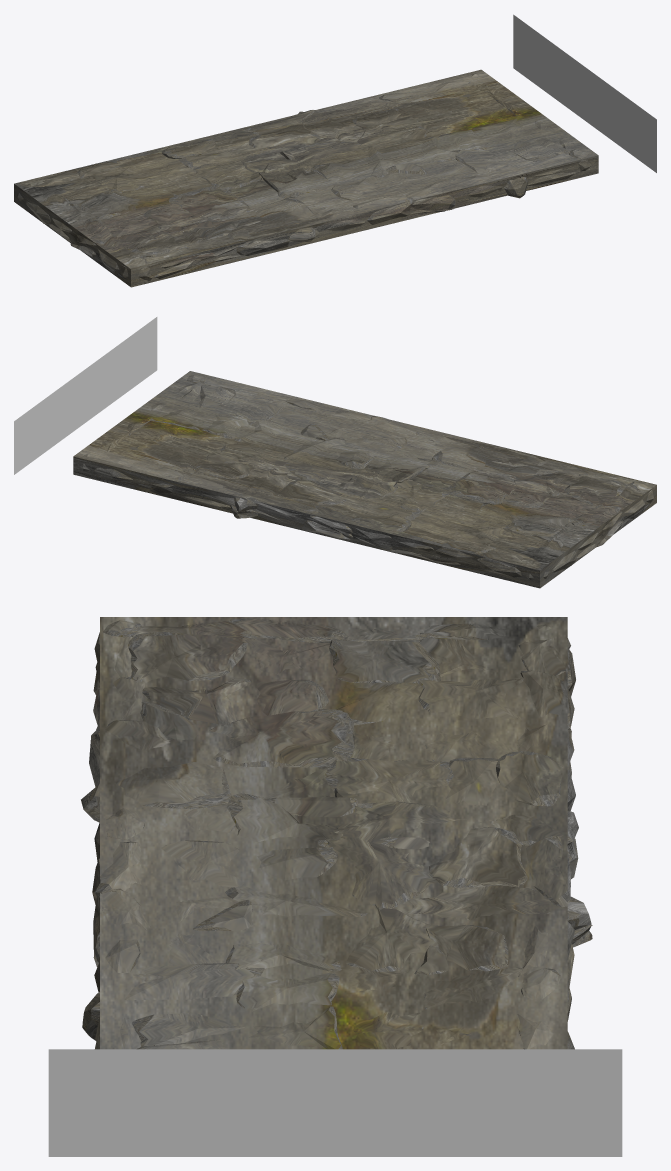
File: pedraponte01animacao.fbx
3 views of the same model, one above another, from view 1: azimuth 30°, elevation 25°; view 2: azimuth 150°, elevation 25°; view 3: azimuth 270°, elevation 25° (orthographic). The views are drawn at different scales.
Parts seen in each view (by area): view 1: Cube, Animacao, Cube_cell.071, Cube_cell.060, Cube_cell.078, Cube_cell.090, Cube_cell.072, Cube_cell.037, Cube_cell.023, Cube_cell.051, Cube_cell.099, Cube_cell.084 (+30 smaller); view 2: Cube, Animacao, Cube_cell.071, Cube_cell.080, Cube_cell.072, Cube_cell.037, Cube_cell.070, Cube_cell.090, Cube_cell.060, Cube_cell.023, Cube_cell.099, Cube_cell.078 (+30 smaller); view 3: Cube, Animacao, Cube_cell.071, Cube_cell.060, Cube_cell.072, Cube_cell.090, Cube_cell.078, Cube_cell.023, Cube_cell.037, Cube_cell.099, Cube_cell.070, Cube_cell.094 (+45 smaller).
Boxes of the visible parts, x1,y1,x2,y2 form: Cube: (14,69,598,287); Animacao: (513,14,656,172); Cube_cell.071: (169,186,249,220); Cube_cell.060: (255,198,319,241); Cube_cell.078: (450,149,528,198); Cube_cell.090: (248,124,320,148); Cube_cell.072: (120,231,190,257); Cube_cell.037: (77,189,135,220); Cube_cell.023: (294,141,360,170); Cube_cell.051: (353,195,414,224); Cube_cell.099: (193,163,250,189); Cube_cell.084: (227,225,289,255); Cube: (73,371,656,588); Animacao: (14,317,157,474); Cube_cell.071: (446,470,516,504); Cube_cell.080: (350,515,411,550); Cube_cell.072: (565,474,627,505); Cube_cell.037: (503,512,573,536); Cube_cell.070: (234,466,289,512); Cube_cell.090: (275,480,346,505); Cube_cell.060: (432,445,490,469); Cube_cell.023: (285,461,370,482); Cube_cell.099: (388,484,449,511); Cube_cell.078: (235,393,286,426); Cube: (100,617,567,1049); Animacao: (48,1049,622,1156); Cube_cell.071: (209,709,354,767); Cube_cell.060: (81,762,231,822); Cube_cell.072: (128,632,247,682); Cube_cell.090: (429,827,527,887); Cube_cell.078: (82,963,264,1040); Cube_cell.023: (325,837,437,909); Cube_cell.037: (329,639,440,683); Cube_cell.099: (325,758,453,802); Cube_cell.070: (404,885,591,929); Cube_cell.094: (345,907,438,971).
Size of the model in its own units: 20.07 by 2.06 by 9.66.
